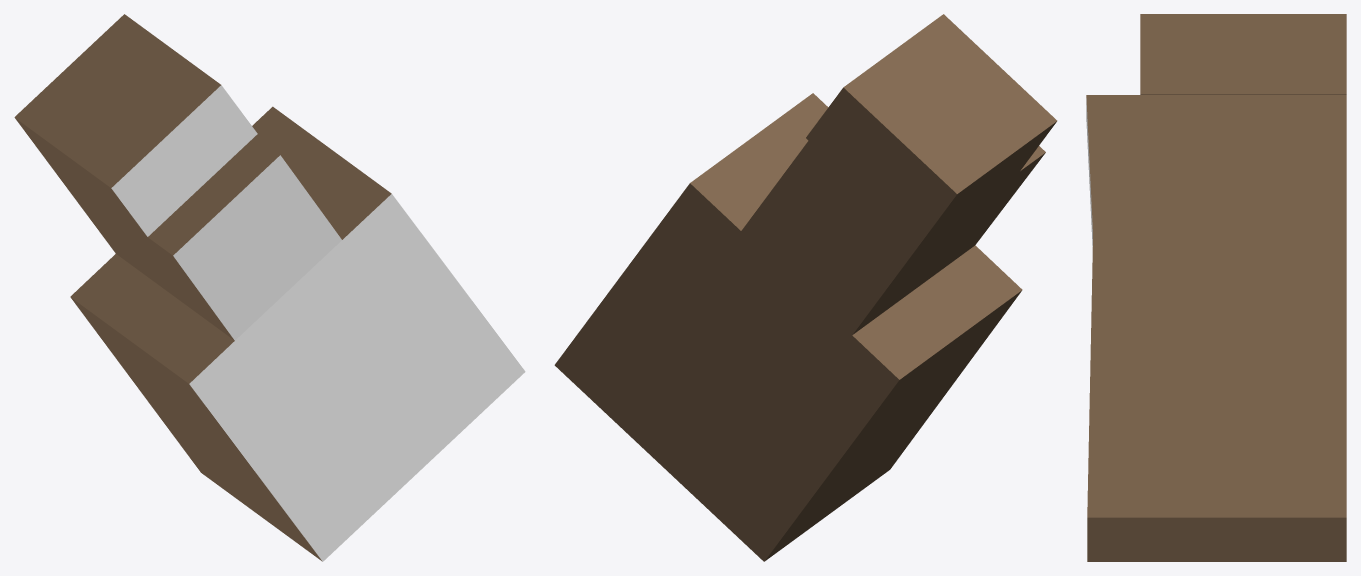
The picture shows the model from 3 angles, left to right: view 1: azimuth 30°, elevation 25°; view 2: azimuth 150°, elevation 25°; view 3: azimuth 270°, elevation 25°; orthographic projection. The views are drawn at different scales.
Visible parts, largest first — view 1: City_1884849; view 2: City_1884849; view 3: City_1884849.
Boxes of the visible parts, left/top/right/bottom form: City_1884849: left=14, top=14, right=525, bottom=561; City_1884849: left=554, top=14, right=1057, bottom=561; City_1884849: left=1086, top=14, right=1346, bottom=561.
Bounding box in the file's own units: 2047 × 2398 × 1113.
